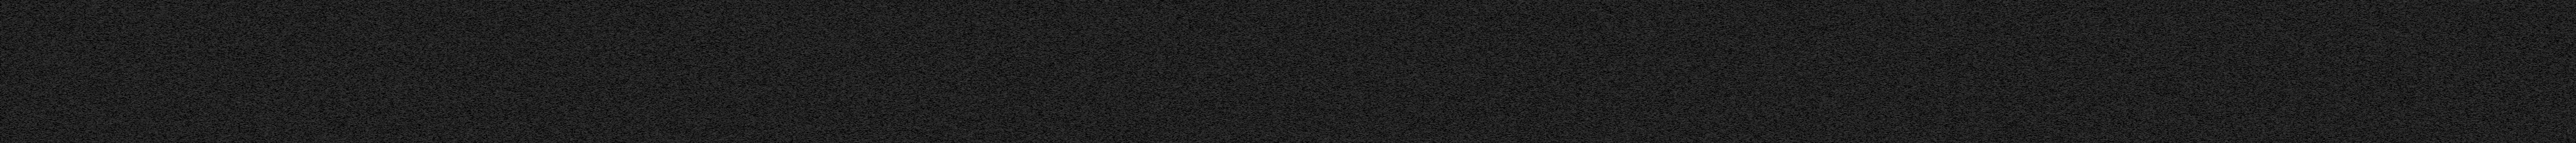wv_am: (2285, 0, 2288, 143), (2295, 0, 2298, 143)
wv_lsb: (2256, 33, 2259, 99), (2256, 2, 2259, 31), (1970, 105, 1973, 122), (1970, 122, 1973, 136), (1970, 84, 1973, 99), (2256, 108, 2259, 120), (1970, 3, 1973, 12), (1970, 12, 1973, 18), (2256, 123, 2259, 130), (2257, 131, 2259, 143), (1970, 138, 1973, 143), (1970, 21, 1973, 26), (1970, 49, 1971, 56), (2257, 99, 2259, 104), (1970, 100, 1971, 105), (1970, 59, 1971, 64), (1970, 36, 1971, 39), (1970, 30, 1971, 33), (2257, 104, 2259, 107), (1970, 79, 1971, 82), (1970, 67, 1971, 71), (1970, 41, 1971, 44), (2257, 120, 2259, 122)
wv_usb: (2407, 3, 2410, 143), (2310, 3, 2313, 5)
wv_wbfm: (2003, 0, 2042, 143), (2114, 0, 2150, 143), (2321, 0, 2356, 143)
